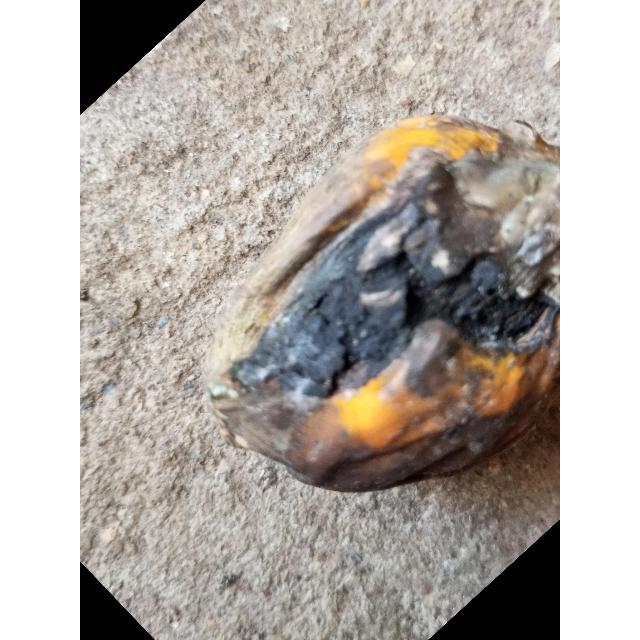damaged: (201, 115, 560, 497)
